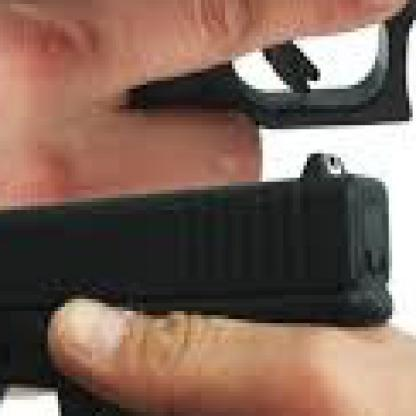gun: (0, 145, 399, 412), (0, 0, 413, 134)
